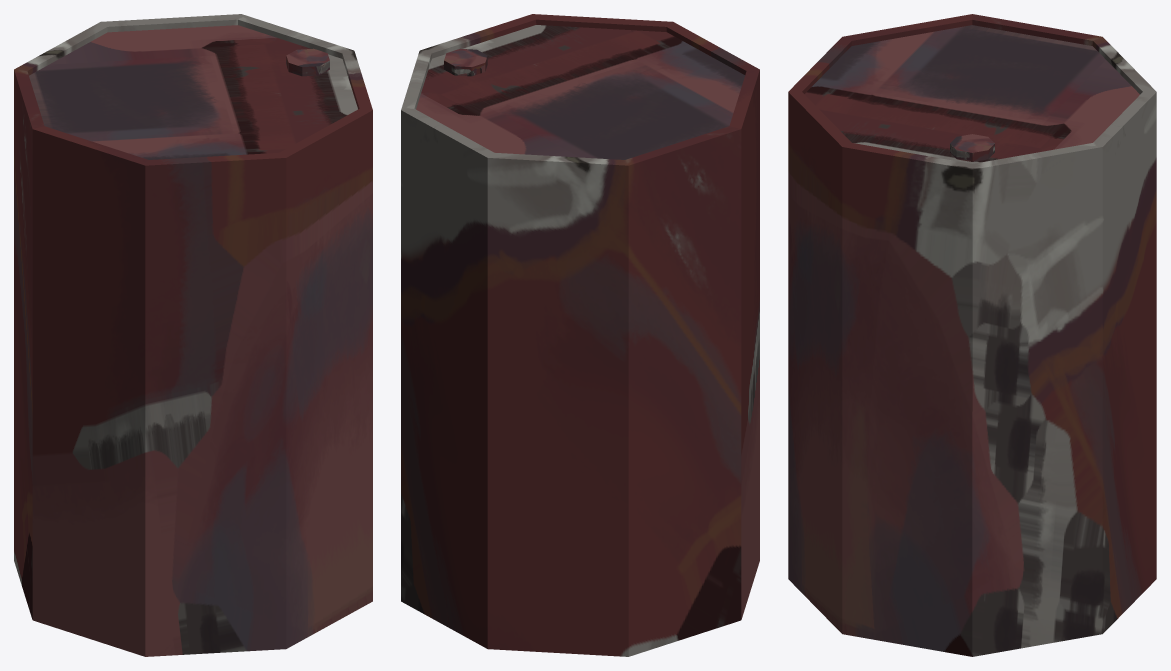
The model's file is barrel of gasoline.fbx.
The picture shows the model from 3 angles, left to right: view 1: azimuth 30°, elevation 25°; view 2: azimuth 150°, elevation 25°; view 3: azimuth 270°, elevation 25°; orthographic projection.
Visible parts, largest first — view 1: barrel of gasoline; view 2: barrel of gasoline; view 3: barrel of gasoline.
Part boxes in pixels (x1,y1,x2,y2): barrel of gasoline: (14,14,372,656); barrel of gasoline: (401,14,759,656); barrel of gasoline: (788,14,1156,656).
Bounding box in the file's own units: 260 × 382 × 260.
